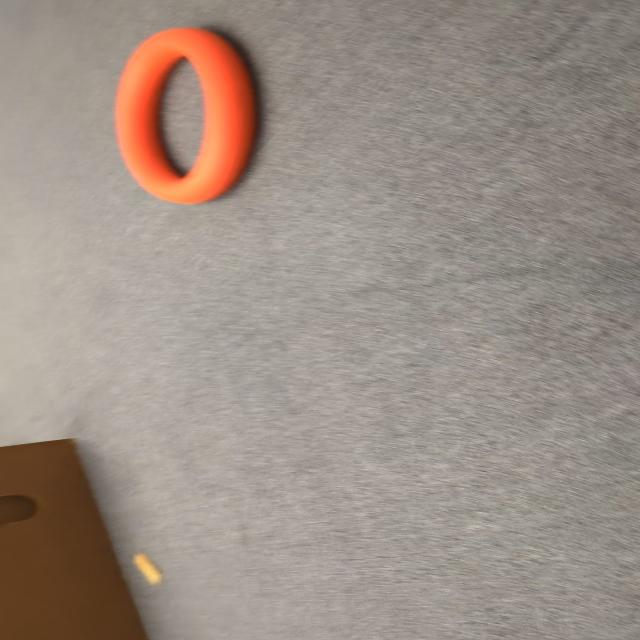note: (117, 25, 262, 203)
